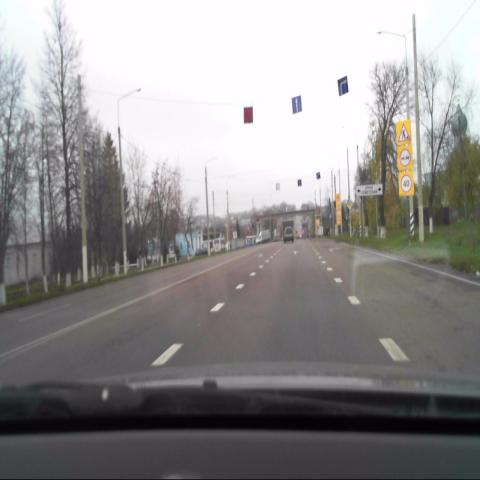3_20: (398, 144, 411, 168)
